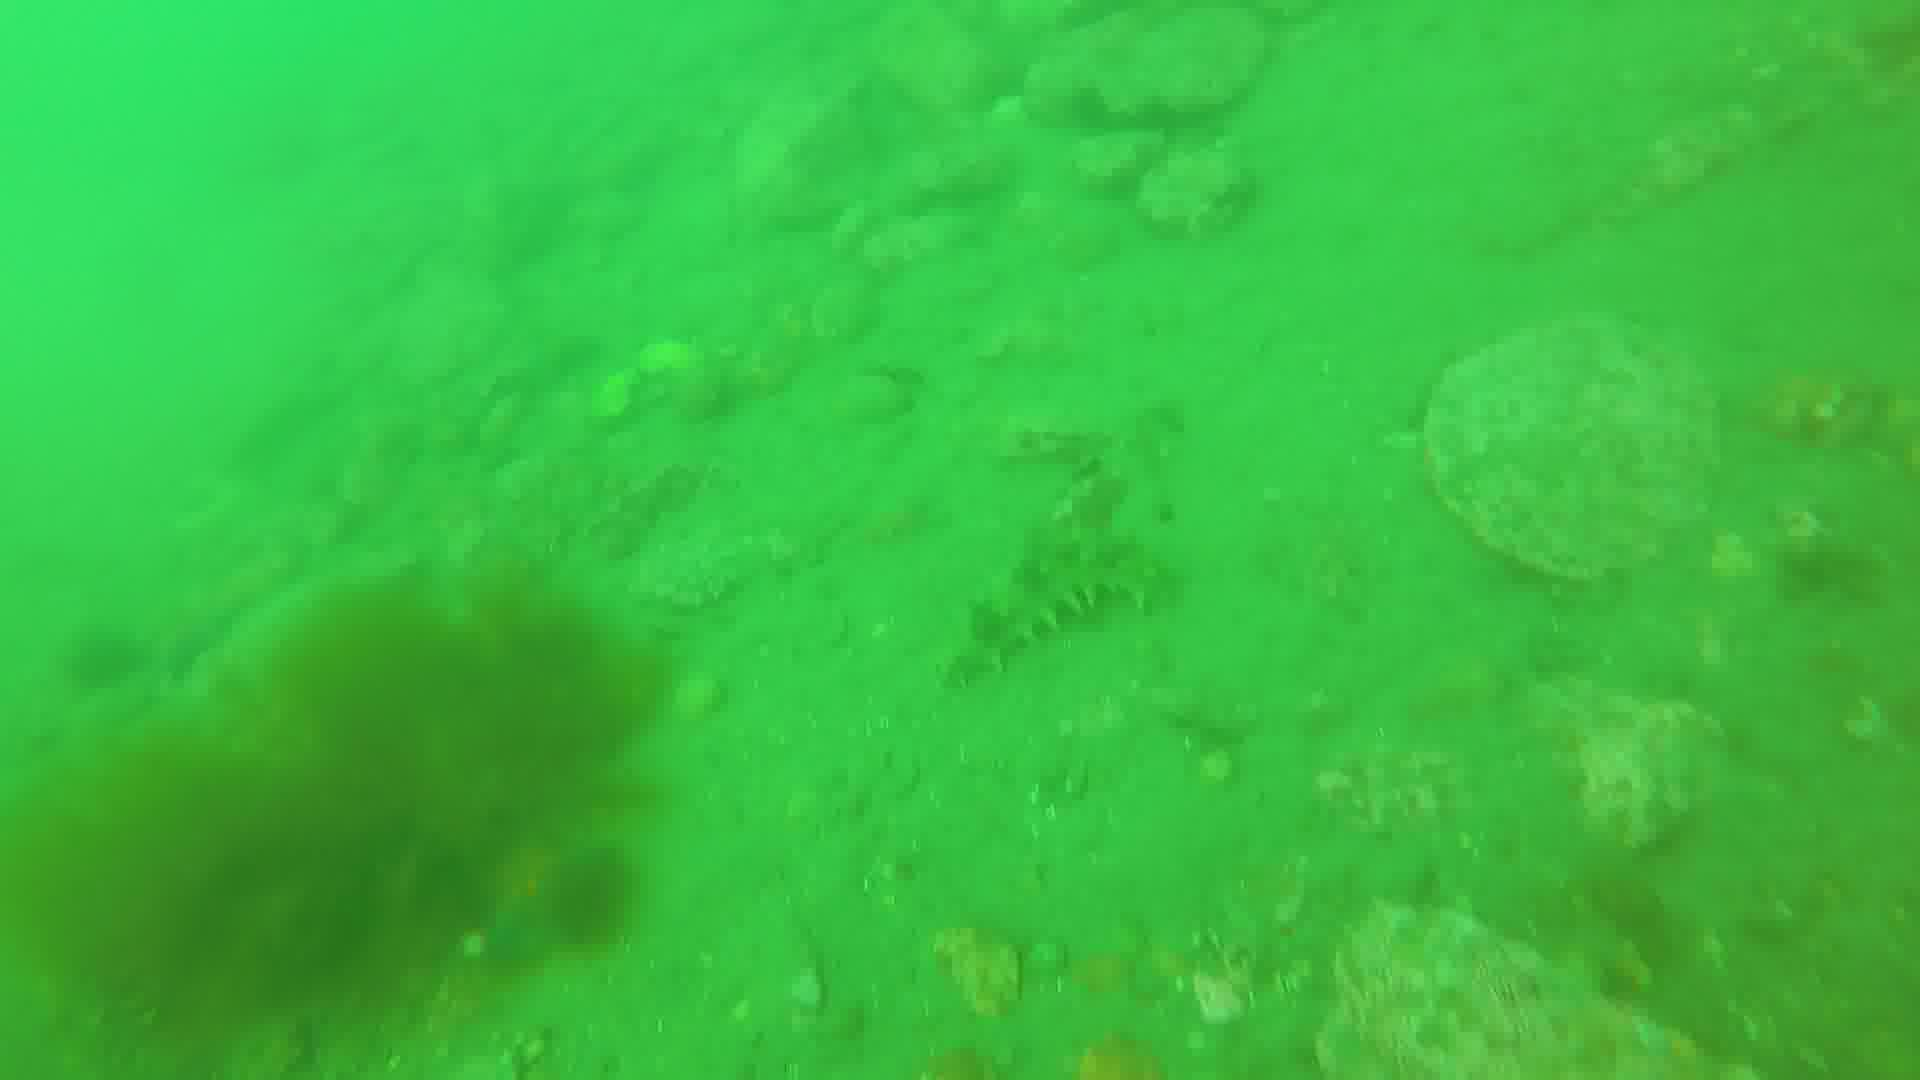holothurian: (939, 531, 1164, 688)
starfish: (448, 825, 647, 963)
